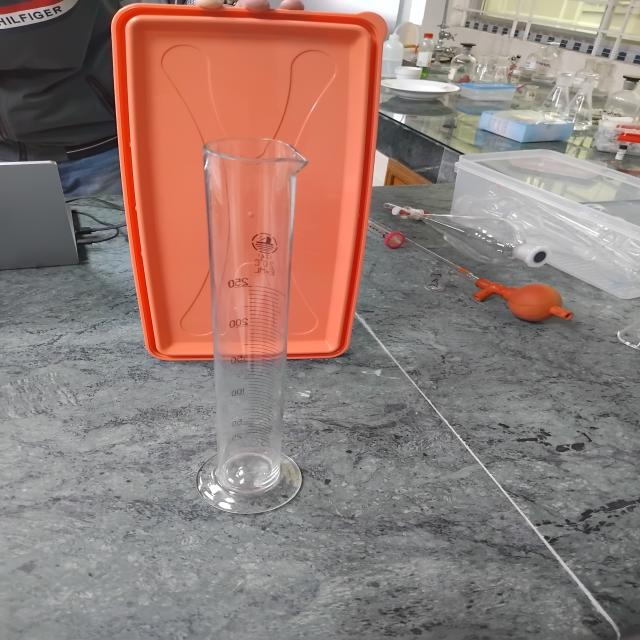Measuring_Cylinder: (165, 107, 342, 542)
